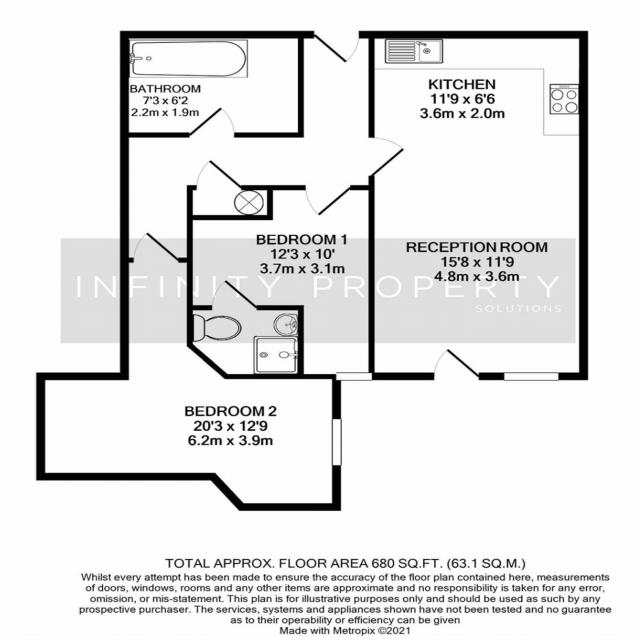DOOR: (192, 154, 248, 190), (429, 345, 482, 381), (310, 31, 364, 66), (129, 228, 182, 263), (302, 184, 354, 219), (369, 135, 409, 180)
ROOM: (36, 227, 343, 512), (368, 30, 589, 381), (185, 157, 374, 380)
WINDOW: (330, 416, 345, 470), (499, 371, 562, 383), (332, 369, 374, 381)
